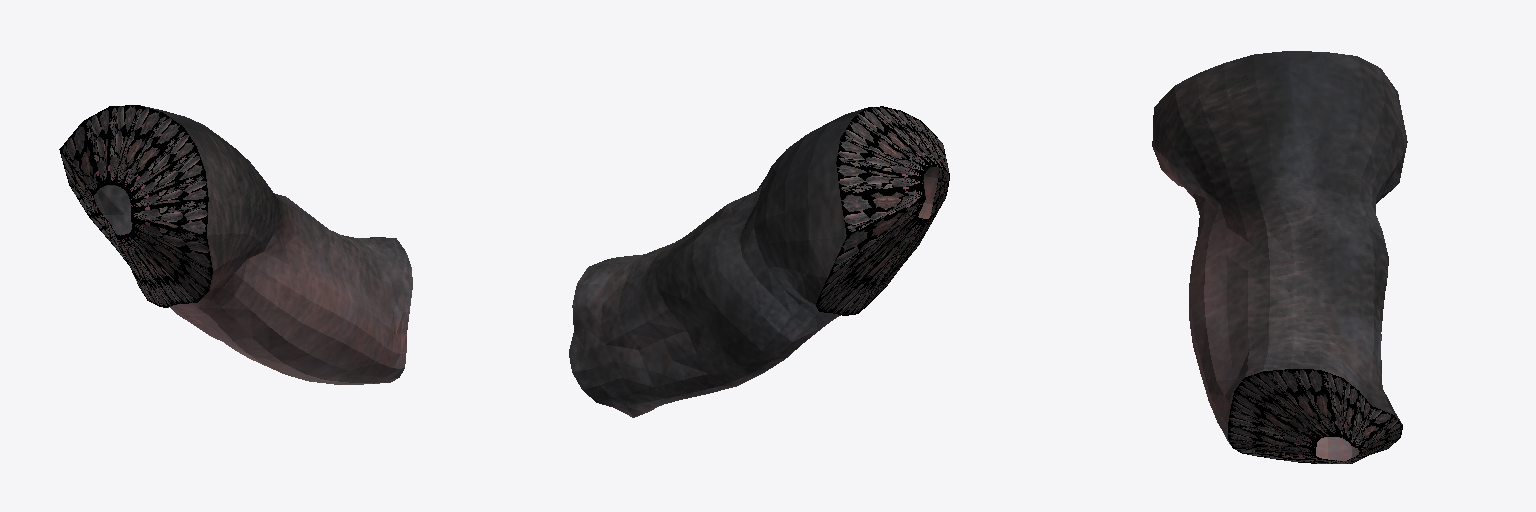
The picture shows the model from 3 angles: view 1: azimuth 30°, elevation 25°; view 2: azimuth 150°, elevation 25°; view 3: azimuth 270°, elevation 25°; orthographic projection.
Parts seen in each view (by area): view 1: Shoulder_L_Elbow_L_Cut; view 2: Shoulder_L_Elbow_L_Cut; view 3: Shoulder_L_Elbow_L_Cut.
Part boxes in pixels (left/top/right/bottom): Shoulder_L_Elbow_L_Cut: left=59, top=105, right=412, bottom=384; Shoulder_L_Elbow_L_Cut: left=569, top=106, right=949, bottom=417; Shoulder_L_Elbow_L_Cut: left=1152, top=51, right=1407, bottom=463.
Size of the model in its own units: 1.24 by 1.2 by 0.8549.
Materials: 1 (1 with a texture image).